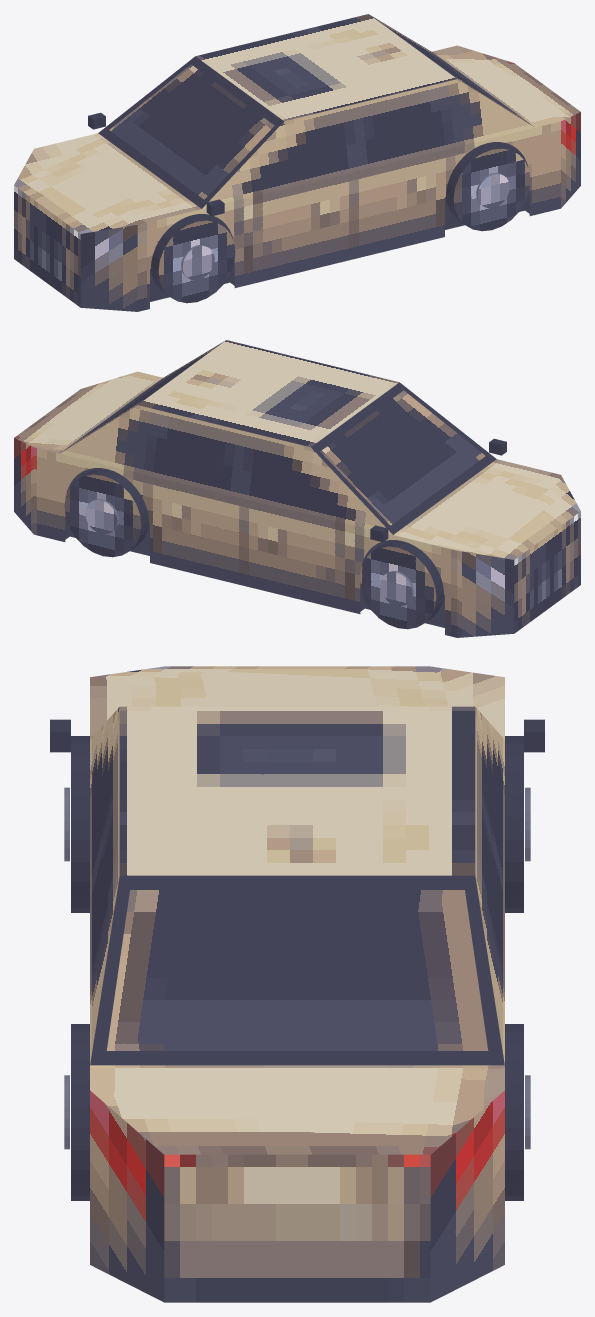
File: sedan-12-v1.glb
3 views of the same model, one above another, from view 1: azimuth 30°, elevation 25°; view 2: azimuth 150°, elevation 25°; view 3: azimuth 270°, elevation 25° (orthographic). The views are drawn at different scales.
Parts seen in each view (by area): view 1: Passenger-body-west, Cabin-windows-west, Roof, Windshield-glass, Hood, Front-fascia, Tire_FL, Tire_RL, Trunk, Front-corner--1, Windshield-frame, Rear-corner--1 (+6 smaller); view 2: Passenger-body-east, Cabin-windows-east, Roof, Windshield-glass, Hood, Front-fascia, Tire_FR, Tire_RR, Trunk, Front-corner-1, Windshield-frame, Rear-corner-1 (+6 smaller); view 3: Roof, Rear-window-glass, Rear-fascia, Trunk, Hood, Rear-window-frame, Rear-corner-1, Rear-corner--1, Cabin-windows-east, Cabin-windows-west, Tire_FL, Tire_FR (+2 smaller).
Boxes of the visible parts, x1,y1,x2,y2 form: Passenger-body-west: (137, 121, 560, 311); Cabin-windows-west: (202, 79, 534, 208); Roof: (195, 14, 456, 121); Windshield-glass: (109, 64, 274, 199); Hood: (14, 133, 200, 233); Front-fascia: (14, 185, 80, 307); Tire_FL: (151, 214, 235, 303); Tire_RL: (446, 142, 530, 231); Trunk: (432, 45, 580, 127); Front-corner--1: (80, 224, 137, 311); Windshield-frame: (98, 56, 283, 208); Rear-corner--1: (561, 112, 580, 208); Passenger-body-east: (34, 447, 457, 637); Cabin-windows-east: (60, 405, 392, 534); Roof: (138, 340, 399, 447); Windshield-glass: (320, 390, 485, 525); Hood: (394, 459, 580, 559); Front-fascia: (514, 511, 580, 633); Tire_FR: (359, 540, 443, 629); Tire_RR: (64, 468, 148, 557); Trunk: (14, 371, 162, 453); Front-corner-1: (457, 550, 514, 637); Windshield-frame: (311, 382, 496, 534); Rear-corner-1: (14, 438, 33, 534); Roof: (119, 706, 475, 875); Rear-window-glass: (106, 890, 488, 1050); Rear-fascia: (164, 1154, 430, 1302); Trunk: (90, 1065, 504, 1154); Hood: (90, 666, 504, 739); Rear-window-frame: (90, 875, 504, 1065); Rear-corner-1: (430, 1090, 504, 1302); Rear-corner--1: (90, 1090, 164, 1302); Cabin-windows-east: (475, 707, 504, 1064); Cabin-windows-west: (90, 707, 119, 1064); Tire_FL: (71, 736, 89, 912); Tire_FR: (505, 736, 523, 912).
Bounding box in the file's own units: 78 × 22 × 33.4.
Materials: 1 (1 with a texture image).
